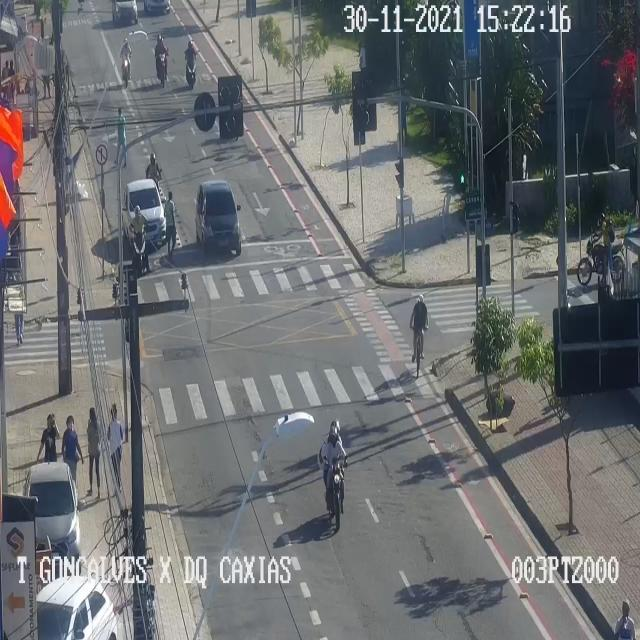Car: (40, 574, 116, 639), (26, 465, 80, 555), (195, 181, 242, 255), (124, 176, 164, 247), (114, 0, 139, 28)
Motorcycle: (317, 418, 349, 530), (577, 219, 625, 285), (129, 203, 151, 276), (154, 36, 170, 84), (119, 38, 133, 84), (186, 42, 200, 84), (144, 154, 158, 181)
